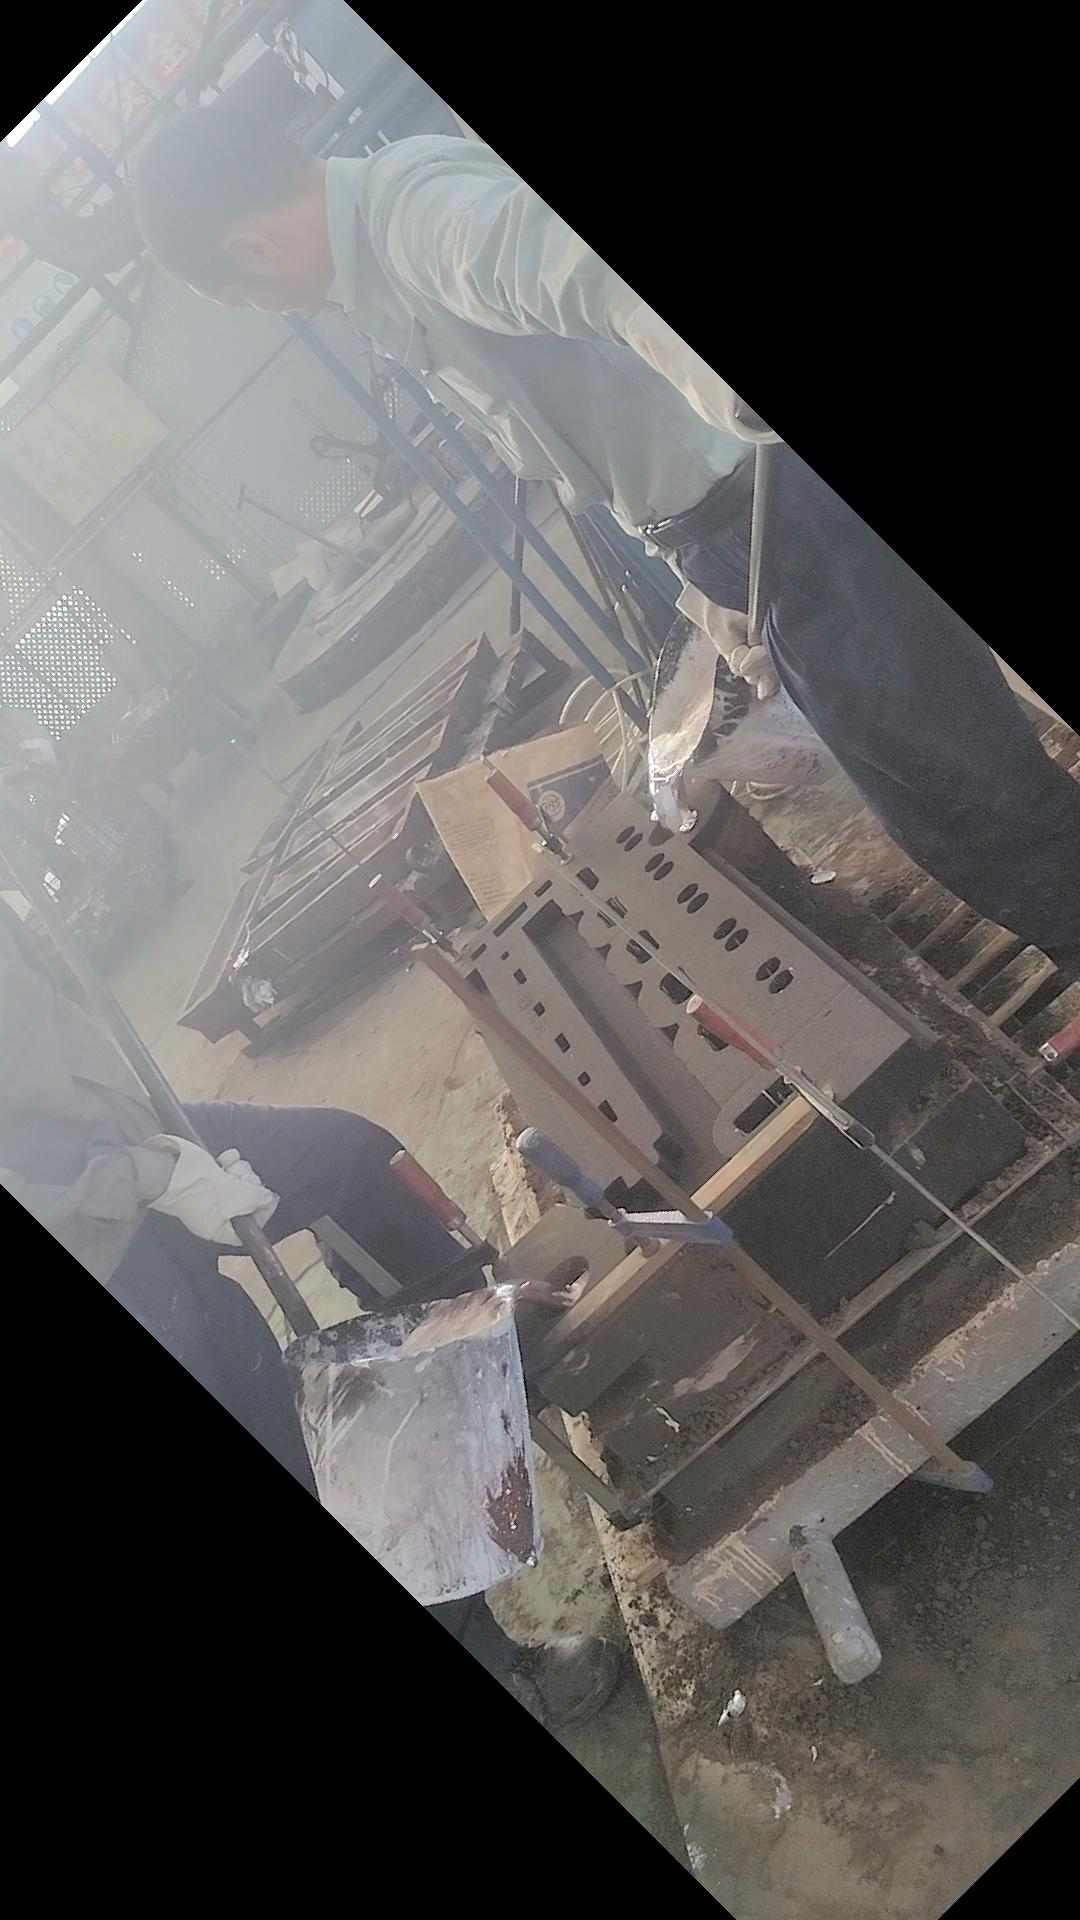pouring hole: (527, 1255, 592, 1317), (647, 796, 695, 845)
